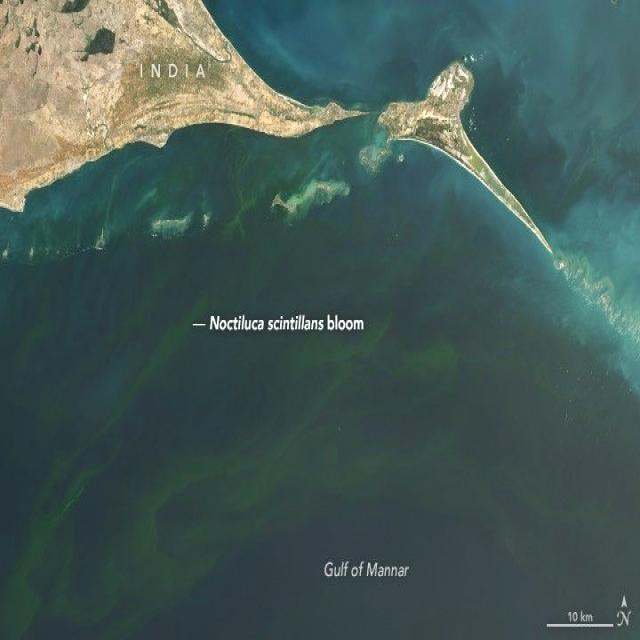algal: (47, 323, 503, 618)
